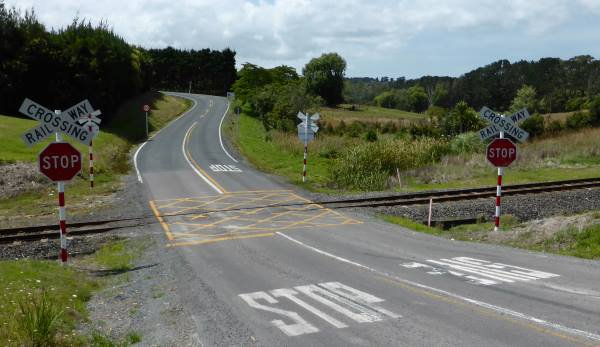stopsign: (38, 140, 84, 184), (487, 136, 518, 167)
